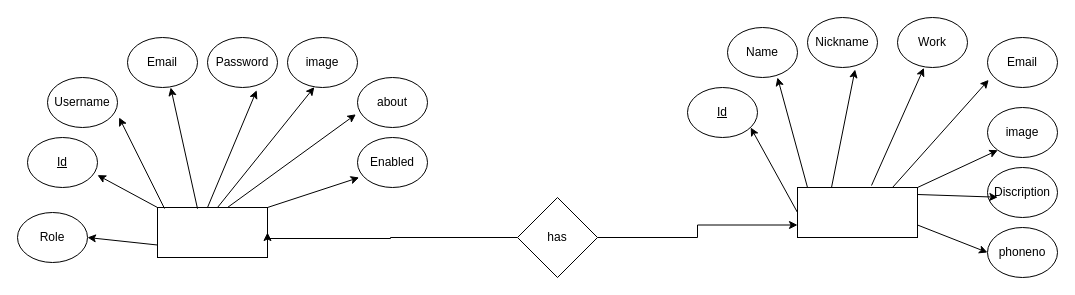
This 1075x295 diagram has some shape labels left out. Here are the shapes that lost their labels. From the top down, the centre of each, then its label:
At (212,232): "User Entity".
At (857,212): "Contact".
